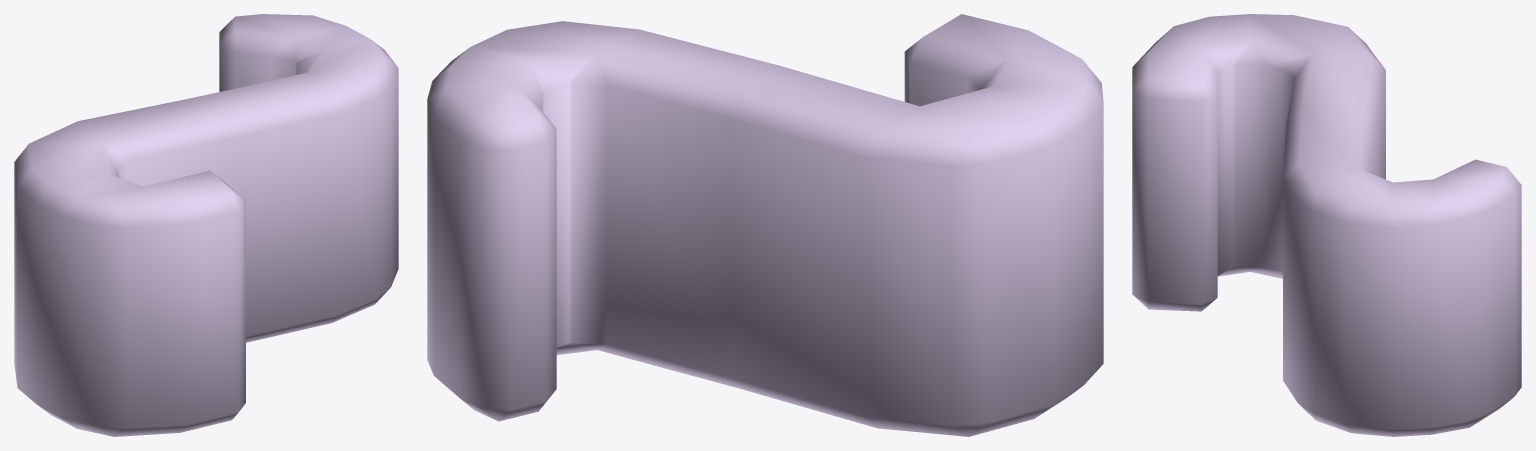
The model's file is TrucDeMerdeDansLesColis.fbx.
3 views of the same model, side by side, from view 1: azimuth 30°, elevation 25°; view 2: azimuth 150°, elevation 25°; view 3: azimuth 270°, elevation 25° (orthographic). The views are drawn at different scales.
Parts seen in each view (by area): view 1: Msh_TrucALaConDansLesColis; view 2: Msh_TrucALaConDansLesColis; view 3: Msh_TrucALaConDansLesColis.
Part boxes in pixels (x1=…): Msh_TrucALaConDansLesColis: x1=14, y1=14, x2=398, y2=436; Msh_TrucALaConDansLesColis: x1=427, y1=14, x2=1103, y2=436; Msh_TrucALaConDansLesColis: x1=1132, y1=14, x2=1521, y2=436.
Bounding box in the file's own units: 40.04 × 20.99 × 31.99.
